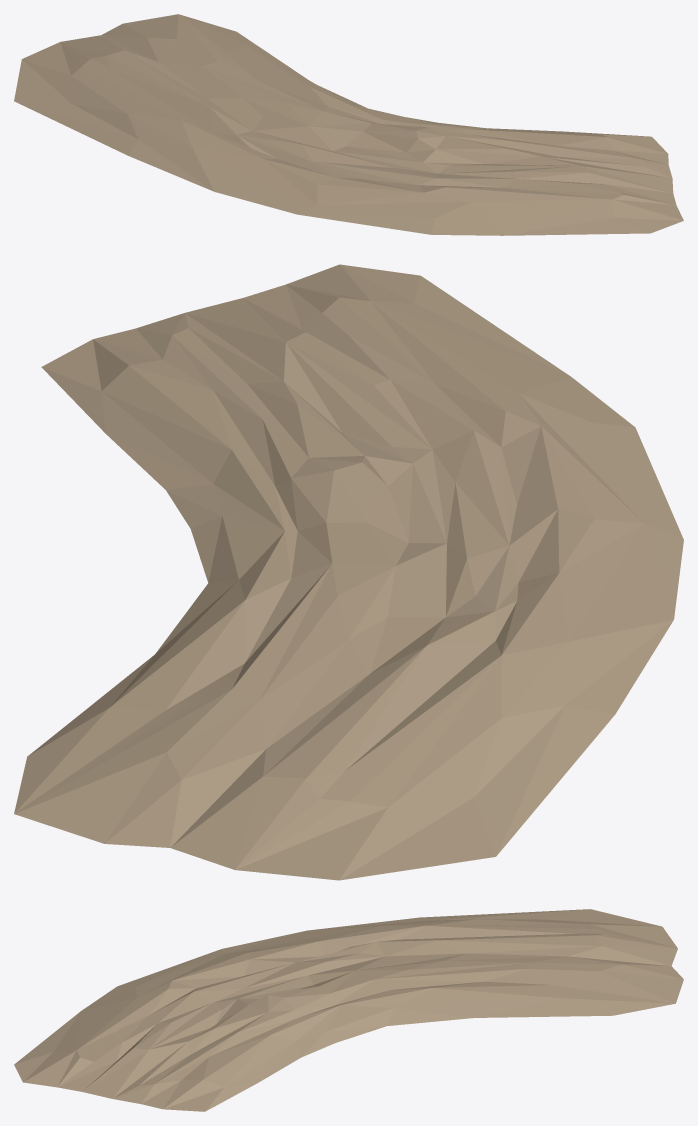
File: SM_Env_DirtRoad_Corner_01.fbx
3 renders of one model, top to bottom at view 1: azimuth 30°, elevation 25°; view 2: azimuth 150°, elevation 25°; view 3: azimuth 270°, elevation 25°, orthographic. The views are drawn at different scales.
Parts seen in each view (by area): view 1: SM_Env_DirtRoad_Corner_01; view 2: SM_Env_DirtRoad_Corner_01; view 3: SM_Env_DirtRoad_Corner_01.
Part boxes in pixels (x1,y1,x2,y2): SM_Env_DirtRoad_Corner_01: (14,14,683,235); SM_Env_DirtRoad_Corner_01: (14,264,683,880); SM_Env_DirtRoad_Corner_01: (14,909,683,1111).
Size of the model in its own units: 526 by 31.05 by 722.
